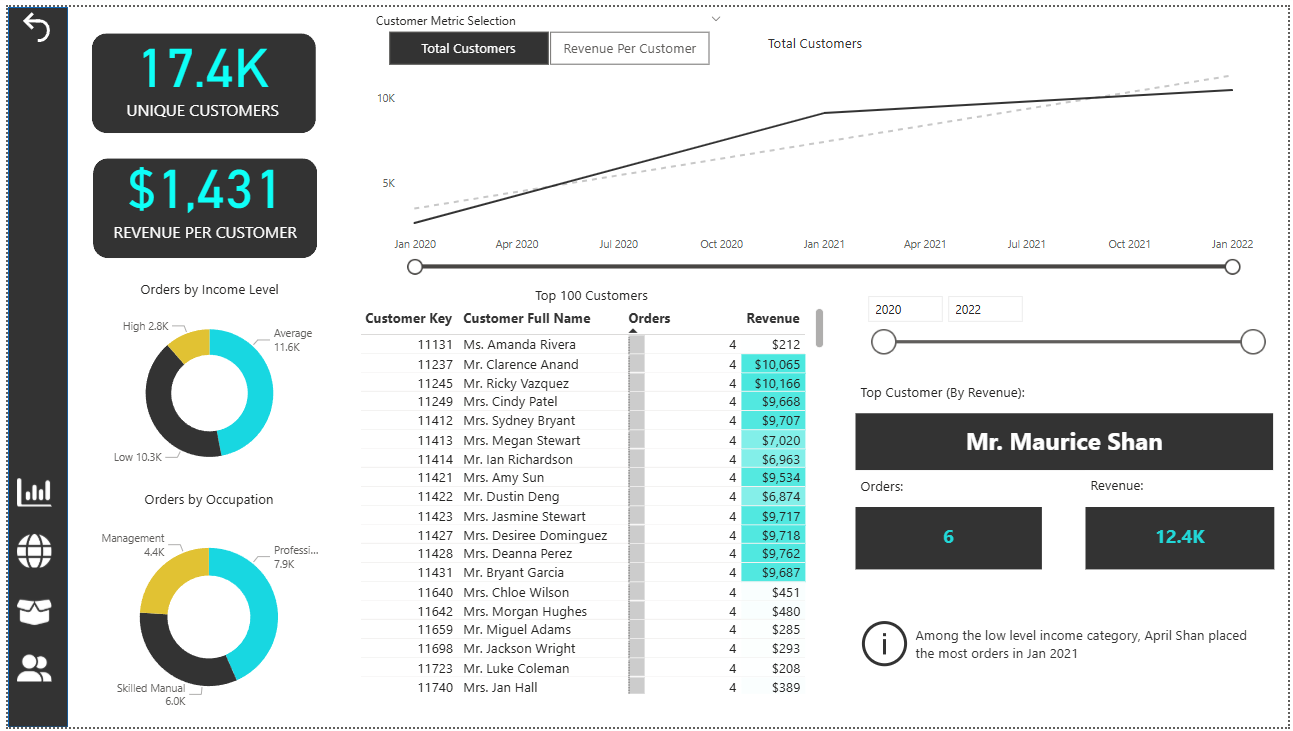

The dashboard page shown, as its layout file describes it:
{"tool":"powerbi","page":{"name":"Customer Detail","canvas":[1280,720],"ordinal":3},"visuals":[{"type":"shape","title":"Left Pane Selection","box":[0,0,60.3,720.6],"z":0},{"type":"actionButton","box":[5.3,448,50.7,69.3],"z":0,"group":"g1"},{"type":"shape","title":"Shape","box":[83.3,25.6,224.4,100],"z":1000},{"type":"actionButton","box":[5.3,504,50.7,76],"z":1000,"group":"g1"},{"type":"card","fields":{"Values":["Measure Table.Total Customers"]},"box":[74.4,0,242.3,129.5],"z":2000},{"type":"actionButton","box":[5.3,566.7,50.7,69.3],"z":2000,"group":"g1"},{"type":"shape","title":"Shape","box":[84.6,151.3,224.4,100],"z":3000},{"type":"actionButton","box":[5.3,622.7,50.7,69.3],"z":3000,"group":"g1"},{"type":"card","fields":{"Values":["Measure Table.Average Revenue Per Customer"]},"box":[75.6,121.8,242.3,129.5],"z":4000},{"type":"lineChart","fields":{"Y":["Measure Table.Total Customers"],"Category":["Calendar Lookup.Date Hierarchy.Start of Year","Calendar Lookup.Date Hierarchy.Start of Month","Calendar Lookup.Date Hierarchy.Start of Week","Calendar Lookup.Date Hierarchy.Date"]},"box":[363.2,25.7,886.6,244.6],"z":5000},{"type":"donutChart","title":"Orders by Income Level","fields":{"Category":["Customer Lookup.Income Level"],"Y":["Measure Table.Total Orders"]},"box":[84.4,272.2,233.3,210],"z":6000},{"type":"donutChart","title":"Orders by Occupation","fields":{"Y":["Measure Table.Total Orders"],"Category":["Customer Lookup.Occupation"]},"box":[84.4,482.2,232.2,237.8],"z":7000},{"type":"tableEx","title":"Top 100 Customers","fields":{"Values":["Customer Lookup.CustomerKey","Customer Lookup.Customer Full Name (CC)","Measure Table.Total Orders","Measure Table.Total Revenue"]},"box":[346.1,278.8,474.5,413.3],"z":8000},{"type":"card","fields":{"Values":["Measure Table.Full name (Customer detail)"]},"box":[848.1,406.3,417.7,57],"z":9000},{"type":"textbox","box":[848.1,370.9,229.1,36.7],"z":10000},{"type":"textbox","box":[1077.2,463.3,188.6,35.4],"z":11000},{"type":"textbox","box":[848.1,464.6,148.1,36.7],"z":12000},{"type":"card","fields":{"Values":["Measure Table.Total Revenue (Customer detail)"]},"box":[1077.2,500,188.6,62],"z":13000},{"type":"card","fields":{"Values":["Measure Table.Total orders (Customer detail)"]},"box":[848.1,500,186.1,62],"z":14000},{"type":"slicer","fields":{"Values":["Calendar Lookup.Year"]},"box":[847.5,278.8,418.8,98.8],"z":15000},{"type":"actionButton","box":[848,601.3,417.3,70.7],"z":16000},{"type":"actionButton","box":[9.3,0,100,40],"z":17000},{"type":"group","id":"g1","title":"Navigation Buttons","box":[5.3,448,50.7,244],"z":18000},{"type":"slicer","fields":{"Values":["Customer Metric Selection.Customer Metric Selection"]},"box":[354.6,0,370.5,64.8],"z":18501}]}

Visuals, with their boxes in screenshot pixels (x1, y1, x2, y2), scaled from the page's 1280x720 canvas onto the 1293x731 screenshot:
"Left Pane Selection" shape: l=0, t=0, r=61, b=730
actionButton: l=5, t=455, r=57, b=525
"Shape" shape: l=84, t=26, r=311, b=128
actionButton: l=5, t=512, r=57, b=589
card - Measure Table.Total Customers: l=75, t=0, r=320, b=131
actionButton: l=5, t=575, r=57, b=646
"Shape" shape: l=85, t=154, r=312, b=255
actionButton: l=5, t=632, r=57, b=703
card - Measure Table.Average Revenue Per Customer: l=76, t=124, r=321, b=255
lineChart - Measure Table.Total Customers x Calendar Lookup.Date Hierarchy.Start of Year: l=367, t=26, r=1262, b=274
"Orders by Income Level" donutChart: l=85, t=276, r=321, b=490
"Orders by Occupation" donutChart: l=85, t=490, r=320, b=730
"Top 100 Customers" tableEx: l=350, t=283, r=829, b=703
card - Measure Table.Full name (Customer detail): l=857, t=413, r=1279, b=470
textbox: l=857, t=377, r=1088, b=414
textbox: l=1088, t=470, r=1279, b=506
textbox: l=857, t=472, r=1006, b=509
card - Measure Table.Total Revenue (Customer detail): l=1088, t=508, r=1279, b=571
card - Measure Table.Total orders (Customer detail): l=857, t=508, r=1045, b=571
slicer - Calendar Lookup.Year: l=856, t=283, r=1279, b=383
actionButton: l=857, t=610, r=1278, b=682
actionButton: l=9, t=0, r=110, b=41
"Navigation Buttons" group: l=5, t=455, r=57, b=703
slicer - Customer Metric Selection.Customer Metric Selection: l=358, t=0, r=732, b=66
